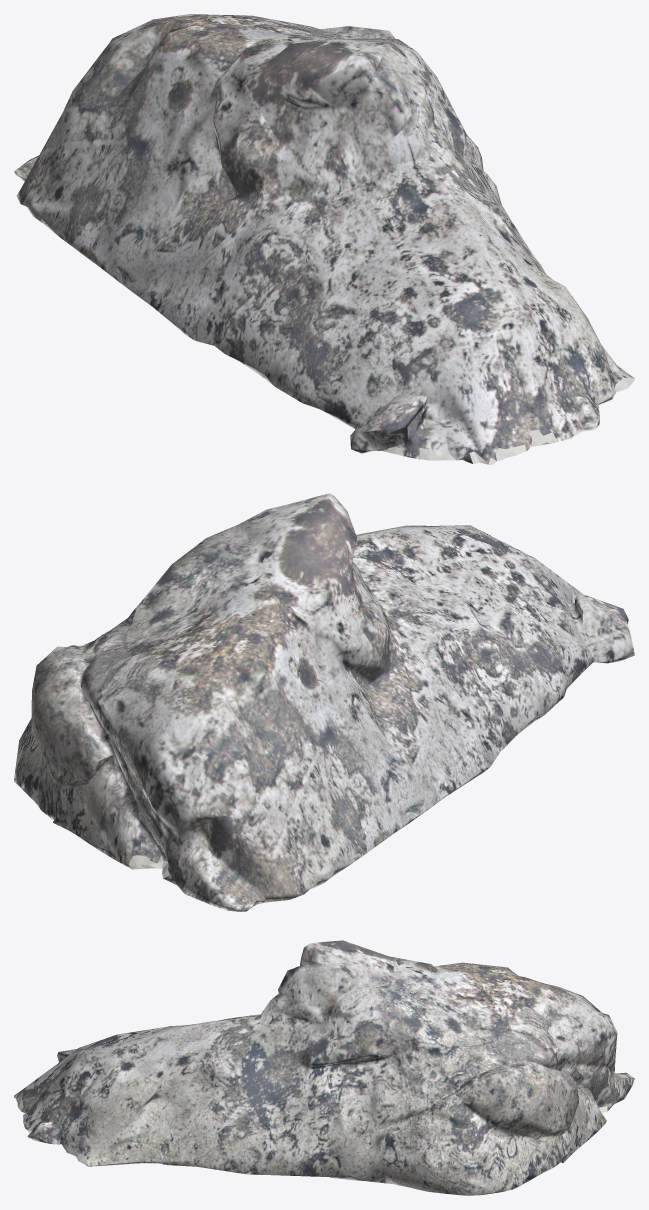
File: SM_RockCliff_03.fbx
3 renders of one model, top to bottom at view 1: azimuth 30°, elevation 25°; view 2: azimuth 150°, elevation 25°; view 3: azimuth 270°, elevation 25°, orthographic. The views are drawn at different scales.
Visible parts, largest first — view 1: SM_RockCliff_03_LOD0; view 2: SM_RockCliff_03_LOD0; view 3: SM_RockCliff_03_LOD0.
Part boxes in pixels (x1,y1,x2,y2): SM_RockCliff_03_LOD0: (14,14,634,464); SM_RockCliff_03_LOD0: (14,493,634,911); SM_RockCliff_03_LOD0: (14,940,634,1195).
Bounding box in the file's own units: 169 × 327 × 105.
Materials: 1 (1 with a texture image).
